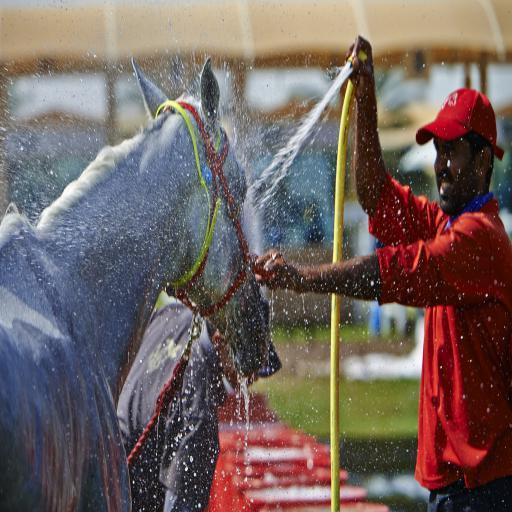horse: (0, 56, 270, 512)
